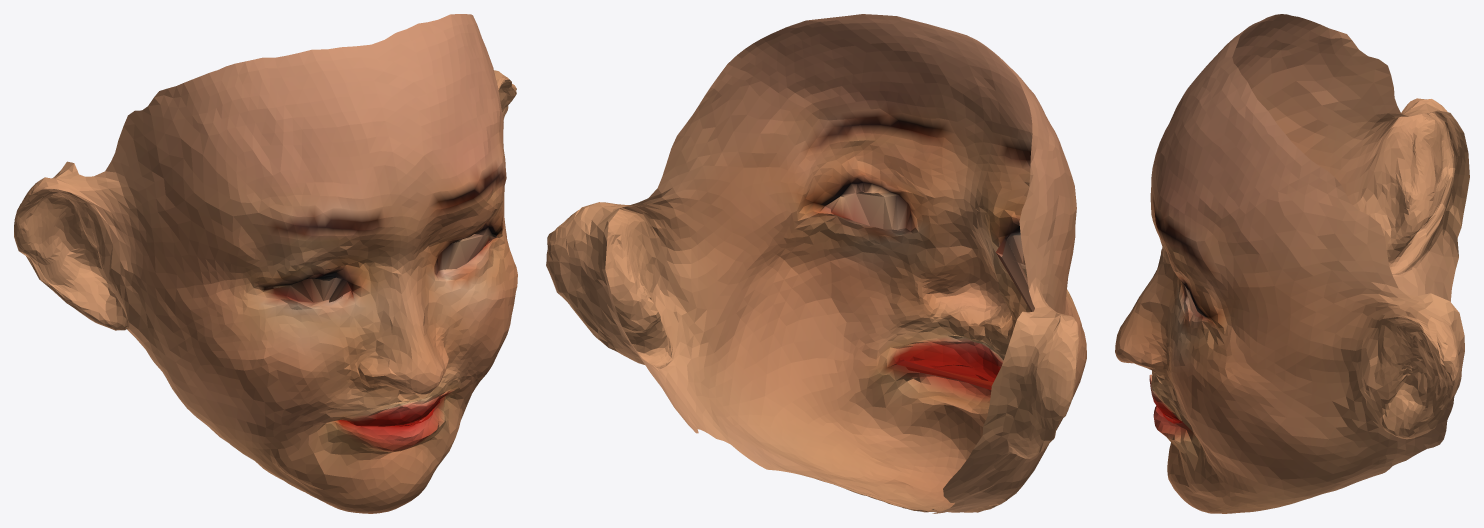
The model's file is seed0009.obj.
3 renders of one model, left to right at view 1: azimuth 30°, elevation 25°; view 2: azimuth 150°, elevation 25°; view 3: azimuth 270°, elevation 25°, orthographic. The views are drawn at different scales.
Size of the model in its own units: 241 by 211 by 151.
